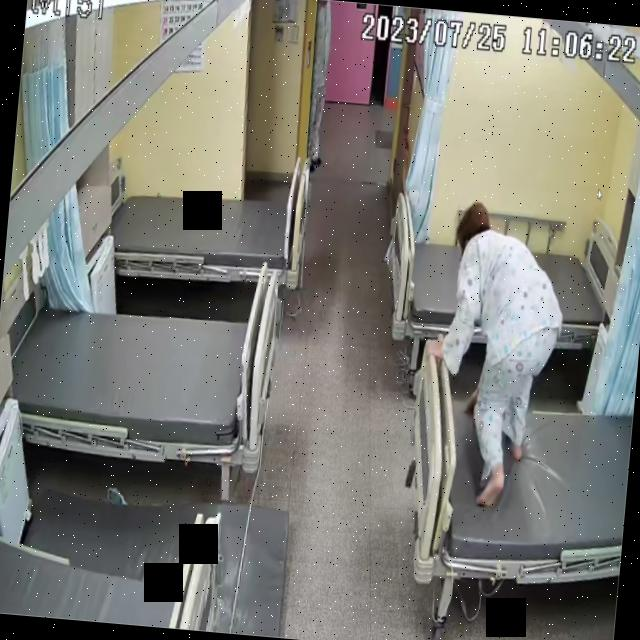bed: (398, 333, 638, 596), (2, 291, 278, 466), (381, 219, 624, 358), (108, 174, 306, 288)
danger: (412, 196, 572, 515)
patient: (410, 195, 572, 523)
